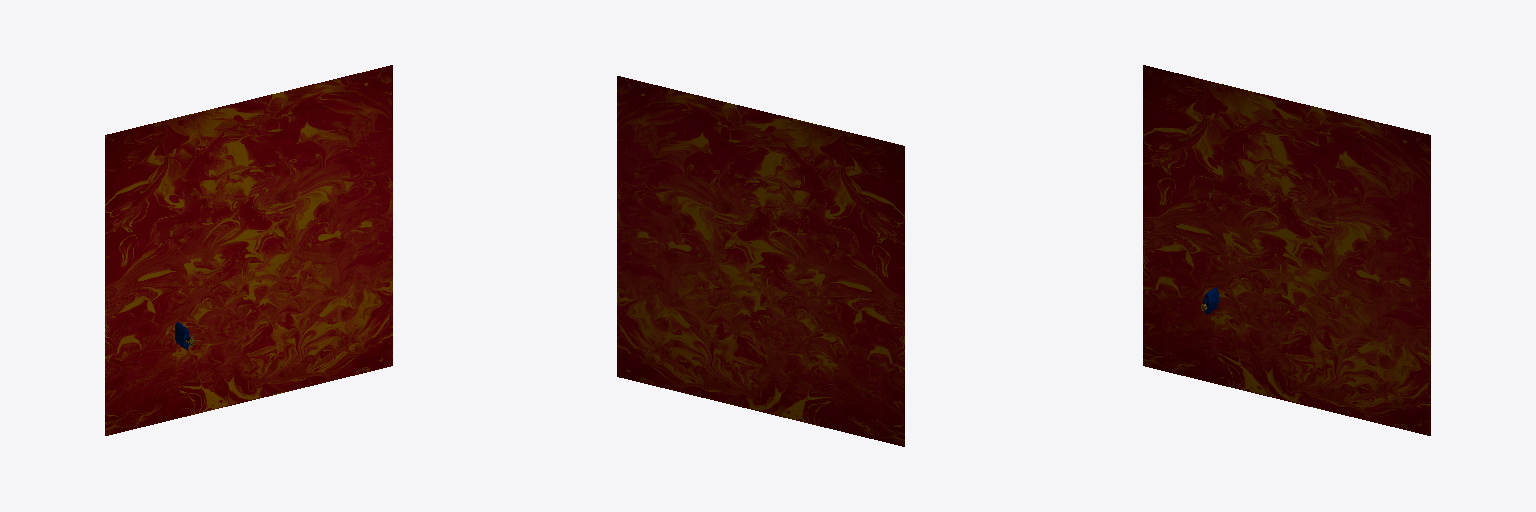
3 views of the same model, side by side, from view 1: azimuth 30°, elevation 25°; view 2: azimuth 150°, elevation 25°; view 3: azimuth 330°, elevation 25° (orthographic).
Visible parts, largest first — view 1: Plane; view 2: Plane; view 3: Plane.
Boxes of the visible parts, x1,y1,x2,y2 form: Plane: [105, 65, 392, 435]; Plane: [617, 76, 904, 446]; Plane: [1143, 65, 1430, 435].
Size of the model in its own units: 103 by 103 by 9.03.
Materials: 4 (3 with a texture image).